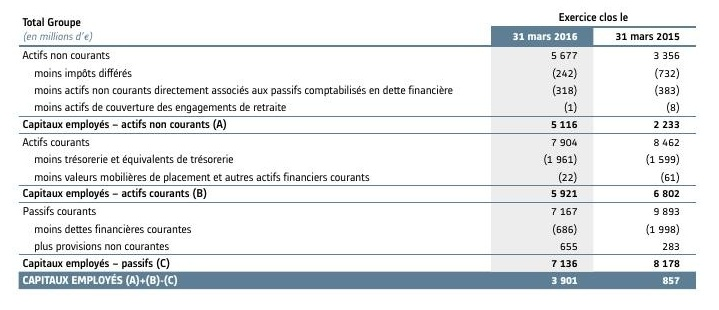table: (0, 0, 719, 310)
